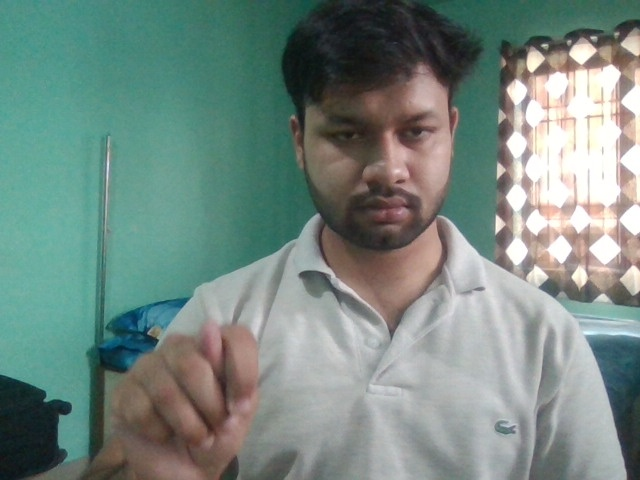Bathroom: (108, 318, 261, 480)
